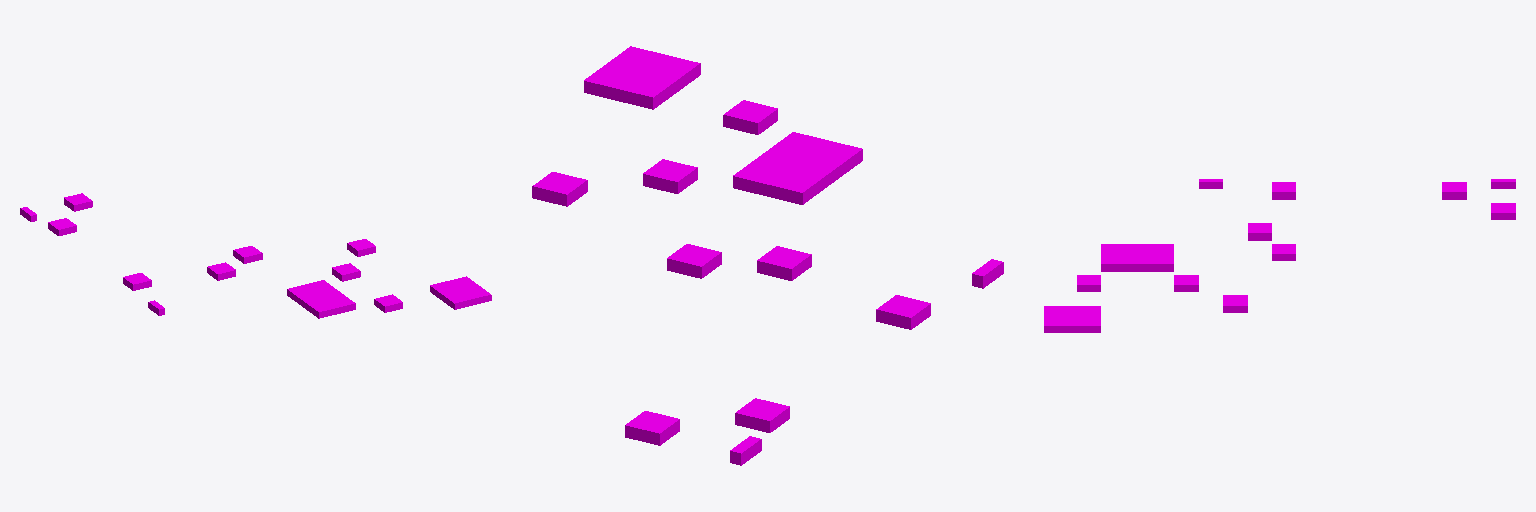
robot.urdf — gridmap_landmarks:
<?xml version="1.0" ?>
<robot name="gridmap_landmarks">
  <link name="lm1">
    <inertial>
        <origin xyz="0 0 0" rpy="0 0 0"/>
            <mass value="1"/>
            <inertia ixx="100"  ixy="0"  ixz="0" iyy="100" iyz="0" izz="100" />
    </inertial>
    <visual>
      <origin rpy="0 0 0" xyz="-52 -4 0"/>
      <geometry>
        <box size="3 3 1" />
      </geometry>
       <material name="red">
        <color rgba="1 0 1 .5"/>
      </material>
    </visual>
    <collision>
      <origin rpy="0 0 0" xyz="-52 -4 0"/>
      <geometry>
         <box size="3 3 1" />
      </geometry>
    </collision>
  </link>

  <link name="lm2">
    <inertial>
        <origin xyz="0 0 0" rpy="0 0 0"/>
            <mass value="1"/>
            <inertia ixx="100"  ixy="0"  ixz="0" iyy="100" iyz="0" izz="100" />
    </inertial>
    <visual>
      <origin rpy="0 0 0" xyz="0 0 0"/>
      <geometry>
        <box size="1 3 1" />
      </geometry>
       <material name="red">
        <color rgba="1 0 1 .5"/>
      </material>
    </visual>
    <collision>
      <origin rpy="0 0 0" xyz="0 0 0"/>
      <geometry>
         <box size="1 3 1" />
      </geometry>
    </collision>
  </link>

  <joint name="lm12" type="fixed">
      <parent link="lm1"/>
      <child link="lm2"/>
      <origin xyz="-60 -4 0"/>
  </joint>

  <link name="lm3">
    <inertial>
        <origin xyz="0 0 0" rpy="0 0 0"/>
            <mass value="1"/>
            <inertia ixx="100"  ixy="0"  ixz="0" iyy="100" iyz="0" izz="100" />
    </inertial>
    <visual>
      <origin rpy="0 0 0" xyz="0 0 0"/>
      <geometry>
        <box size="3 3 1" />
      </geometry>
       <material name="red">
        <color rgba="1 0 1 .5"/>
      </material>
    </visual>
    <collision>
      <origin rpy="0 0 0" xyz="0 0 0"/>
      <geometry>
         <box size="3 3 1" />
      </geometry>
    </collision>
  </link>

  <joint name="lm13" type="fixed">
      <parent link="lm1"/>
      <child link="lm3"/>
      <origin xyz="-58 -10 0"/>
  </joint>

  <link name="lm4">
    <inertial>
        <origin xyz="0 0 0" rpy="0 0 0"/>
            <mass value="1"/>
            <inertia ixx="100"  ixy="0"  ixz="0" iyy="100" iyz="0" izz="100" />
    </inertial>
    <visual>
      <origin rpy="0 0 0" xyz="0 0 0"/>
      <geometry>
        <box size="3 3 1" />
      </geometry>
       <material name="red">
        <color rgba="1 0 1 .9"/>
      </material>
    </visual>
    <collision>
      <origin rpy="0 0 0" xyz="0 0 0"/>
      <geometry>
         <box size="3 3 1" />
      </geometry>
    </collision>
  </link>

  <joint name="lm14" type="fixed">
      <parent link="lm1"/>
      <child link="lm4"/>
      <origin xyz="-58 -31 0"/>
  </joint>

  <link name="lm5">
    <inertial>
        <origin xyz="0 0 0" rpy="0 0 0"/>
            <mass value="1"/>
            <inertia ixx="100"  ixy="0"  ixz="0" iyy="100" iyz="0" izz="100" />
    </inertial>
    <visual>
      <origin rpy="0 0 0" xyz="0 0 0"/>
      <geometry>
        <box size="3 3 1" />
      </geometry>
       <material name="red">
        <color rgba="1 0 1 .5"/>
      </material>
    </visual>
    <collision>
      <origin rpy="0 0 0" xyz="0 0 0"/>
      <geometry>
         <box size="3 3 1" />
      </geometry>
    </collision>
  </link>

  <joint name="lm15" type="fixed">
      <parent link="lm1"/>
      <child link="lm5"/>
      <origin xyz="-40 -31 0"/>
  </joint>

  <link name="lm6">
    <inertial>
        <origin xyz="0 0 0" rpy="0 0 0"/>
            <mass value="1"/>
            <inertia ixx="100"  ixy="0"  ixz="0" iyy="100" iyz="0" izz="100" />
    </inertial>
    <visual>
      <origin rpy="0 0 0" xyz="0 0 0"/>
      <geometry>
        <box size="3 3 1" />
      </geometry>
       <material name="red">
        <color rgba="1 0 1 .5"/>
      </material>
    </visual>
    <collision>
      <origin rpy="0 0 0" xyz="0 0 0"/>
      <geometry>
         <box size="3 3 1" />
      </geometry>
    </collision>
  </link>

  <joint name="lm16" type="fixed">
      <parent link="lm1"/>
      <child link="lm6"/>
      <origin xyz="-46 -34 0"/>
  </joint>

  <link name="lm7">
    <inertial>
        <origin xyz="0 0 0" rpy="0 0 0"/>
            <mass value="1"/>
            <inertia ixx="100"  ixy="0"  ixz="0" iyy="100" iyz="0" izz="100" />
    </inertial>
    <visual>
      <origin rpy="0 0 0" xyz="0 0 0"/>
      <geometry>
        <box size="3 3 1" />
      </geometry>
       <material name="red">
        <color rgba="1 0 1 .5"/>
      </material>
    </visual>
    <collision>
      <origin rpy="0 0 0" xyz="0 0 0"/>
      <geometry>
         <box size="3 3 1" />
      </geometry>
    </collision>
  </link>

  <joint name="lm17" type="fixed">
      <parent link="lm1"/>
      <child link="lm7"/>
      <origin xyz="-25 -37 0"/>
  </joint>

  <link name="lm8">
    <inertial>
        <origin xyz="0 0 0" rpy="0 0 0"/>
            <mass value="1"/>
            <inertia ixx="100"  ixy="0"  ixz="0" iyy="100" iyz="0" izz="100" />
    </inertial>
    <visual>
      <origin rpy="0 0 0" xyz="0 0 0"/>
      <geometry>
        <box size="1 3 1" />
      </geometry>
       <material name="red">
        <color rgba="1 0 1 .5"/>
      </material>
    </visual>
    <collision>
      <origin rpy="0 0 0" xyz="0 0 0"/>
      <geometry>
         <box size="1 3 1" />
      </geometry>
    </collision>
  </link>

  <joint name="lm18" type="fixed">
      <parent link="lm1"/>
      <child link="lm8"/>
      <origin xyz="-60 -40 0"/>
  </joint>

  <link name="lm9">
    <inertial>
        <origin xyz="0 0 0" rpy="0 0 0"/>
            <mass value="1"/>
            <inertia ixx="100"  ixy="0"  ixz="0" iyy="100" iyz="0" izz="100" />
    </inertial>
    <visual>
      <origin rpy="0 0 0" xyz="0 0 0"/>
      <geometry>
        <box size="3 3 1" />
      </geometry>
       <material name="red">
        <color rgba="1 0 1 .5"/>
      </material>
    </visual>
    <collision>
      <origin rpy="0 0 0" xyz="0 0 0"/>
      <geometry>
         <box size="3 3 1" />
      </geometry>
    </collision>
  </link>

  <joint name="lm19" type="fixed">
      <parent link="lm1"/>
      <child link="lm9"/>
      <origin xyz="-31 -43 0"/>
  </joint>

  <link name="lm10">
        <inertial>
        <origin xyz="0 0 0" rpy="0 0 0"/>
            <mass value="1"/>
            <inertia ixx="100"  ixy="0"  ixz="0" iyy="100" iyz="0" izz="100" />
    </inertial>
    <visual>
      <origin rpy="0 0 0" xyz="0 0 0"/>
      <geometry>
        <box size="3 3 1" />
      </geometry>
       <material name="red">
        <color rgba="1 0 1 .5"/>
      </material>
    </visual>
    <collision>
      <origin rpy="0 0 0" xyz="0 0 0"/>
      <geometry>
         <box size="3 3 1" />
      </geometry>
    </collision>
  </link>

  <joint name="lm110" type="fixed">
      <parent link="lm1"/>
      <child link="lm10"/>
      <origin xyz="-31 -55 0"/>
  </joint>

  <link name="lm11">
        <inertial>
        <origin xyz="0 0 0" rpy="0 0 0"/>
            <mass value="1"/>
            <inertia ixx="100"  ixy="0"  ixz="0" iyy="100" iyz="0" izz="100" />
    </inertial>
    <visual>
      <origin rpy="0 0 0" xyz="0 0 0"/>
      <geometry>
        <box size="6 9 1" />
      </geometry>
       <material name="red">
        <color rgba="1 0 1 .5"/>
      </material>
    </visual>
    <collision>
      <origin rpy="0 0 0" xyz="0 0 0"/>
      <geometry>
         <box size="6 9 1" />
      </geometry>
    </collision>
  </link>

  <joint name="lm111" type="fixed">
      <parent link="lm1"/>
      <child link="lm11"/>
      <origin xyz="-38.5 -49 0"/>
  </joint>

  <link name="lm12">
    <inertial>
        <origin xyz="0 0 0" rpy="0 0 0"/>
            <mass value="1"/>
            <inertia ixx="100"  ixy="0"  ixz="0" iyy="100" iyz="0" izz="100" />
    </inertial>
    <visual>
      <origin rpy="0 0 0" xyz="0 0 0"/>
      <geometry>
        <box size="6 7 1" />
      </geometry>
       <material name="red">
        <color rgba="1 0 1 .5"/>
      </material>
    </visual>
    <collision>
      <origin rpy="0 0 0" xyz="0 0 0"/>
      <geometry>
         <box size="6 7 1" />
      </geometry>
    </collision>
  </link>

  <joint name="lm112" type="fixed">
      <parent link="lm1"/>
      <child link="lm12"/>
      <origin xyz="-20.5 -57 0"/>
  </joint>
</robot>

--- Facts derived from the render (not from the file) ---
The picture shows the robot from 3 angles, left to right: view 1: azimuth 30°, elevation 25°; view 2: azimuth 150°, elevation 25°; view 3: azimuth 270°, elevation 25°; orthographic projection.
Model gridmap_landmarks with 12 links and 11 joints (11 fixed), rooted at lm1, posed every joint at zero.
Visible links, largest first — view 1: lm11, lm12; view 2: lm11, lm12, lm7, lm1, lm6, lm9, lm4, lm5, lm3, lm10, lm2, lm8; view 3: lm11, lm12.
Boxes of the visible links, x1=… form: lm11: x1=287, y1=280, x2=355, y2=318; lm12: x1=430, y1=276, x2=491, y2=309; lm11: x1=733, y1=132, x2=862, y2=204; lm12: x1=584, y1=46, x2=700, y2=109; lm7: x1=532, y1=172, x2=587, y2=206; lm1: x1=625, y1=411, x2=679, y2=445; lm6: x1=757, y1=246, x2=811, y2=280; lm9: x1=643, y1=159, x2=697, y2=193; lm4: x1=876, y1=295, x2=930, y2=329; lm5: x1=667, y1=244, x2=721, y2=278; lm3: x1=735, y1=398, x2=789, y2=432; lm10: x1=723, y1=100, x2=777, y2=134; lm2: x1=730, y1=436, x2=761, y2=465; lm8: x1=972, y1=259, x2=1003, y2=288; lm11: x1=1101, y1=244, x2=1173, y2=271; lm12: x1=1044, y1=306, x2=1100, y2=332.
Size in the robot's own frame: 43 by 58 by 1 metres.
Geometry: primitives only (box / cylinder / sphere), no mesh files.